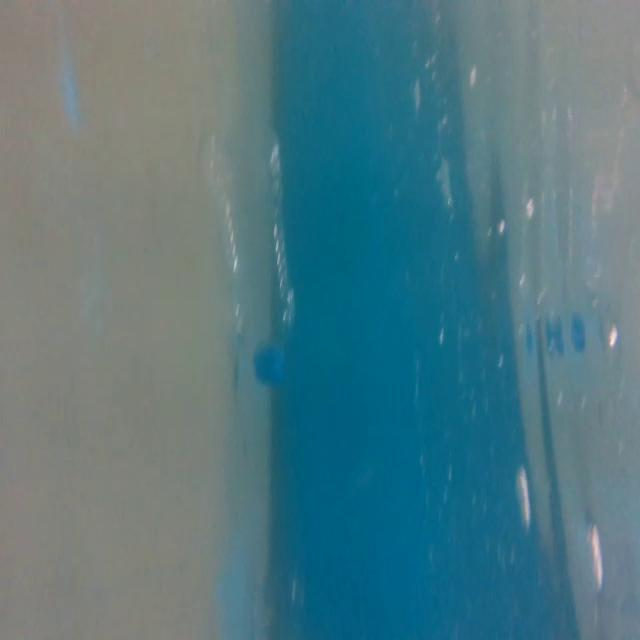plastic bottle: (195, 116, 305, 396)
